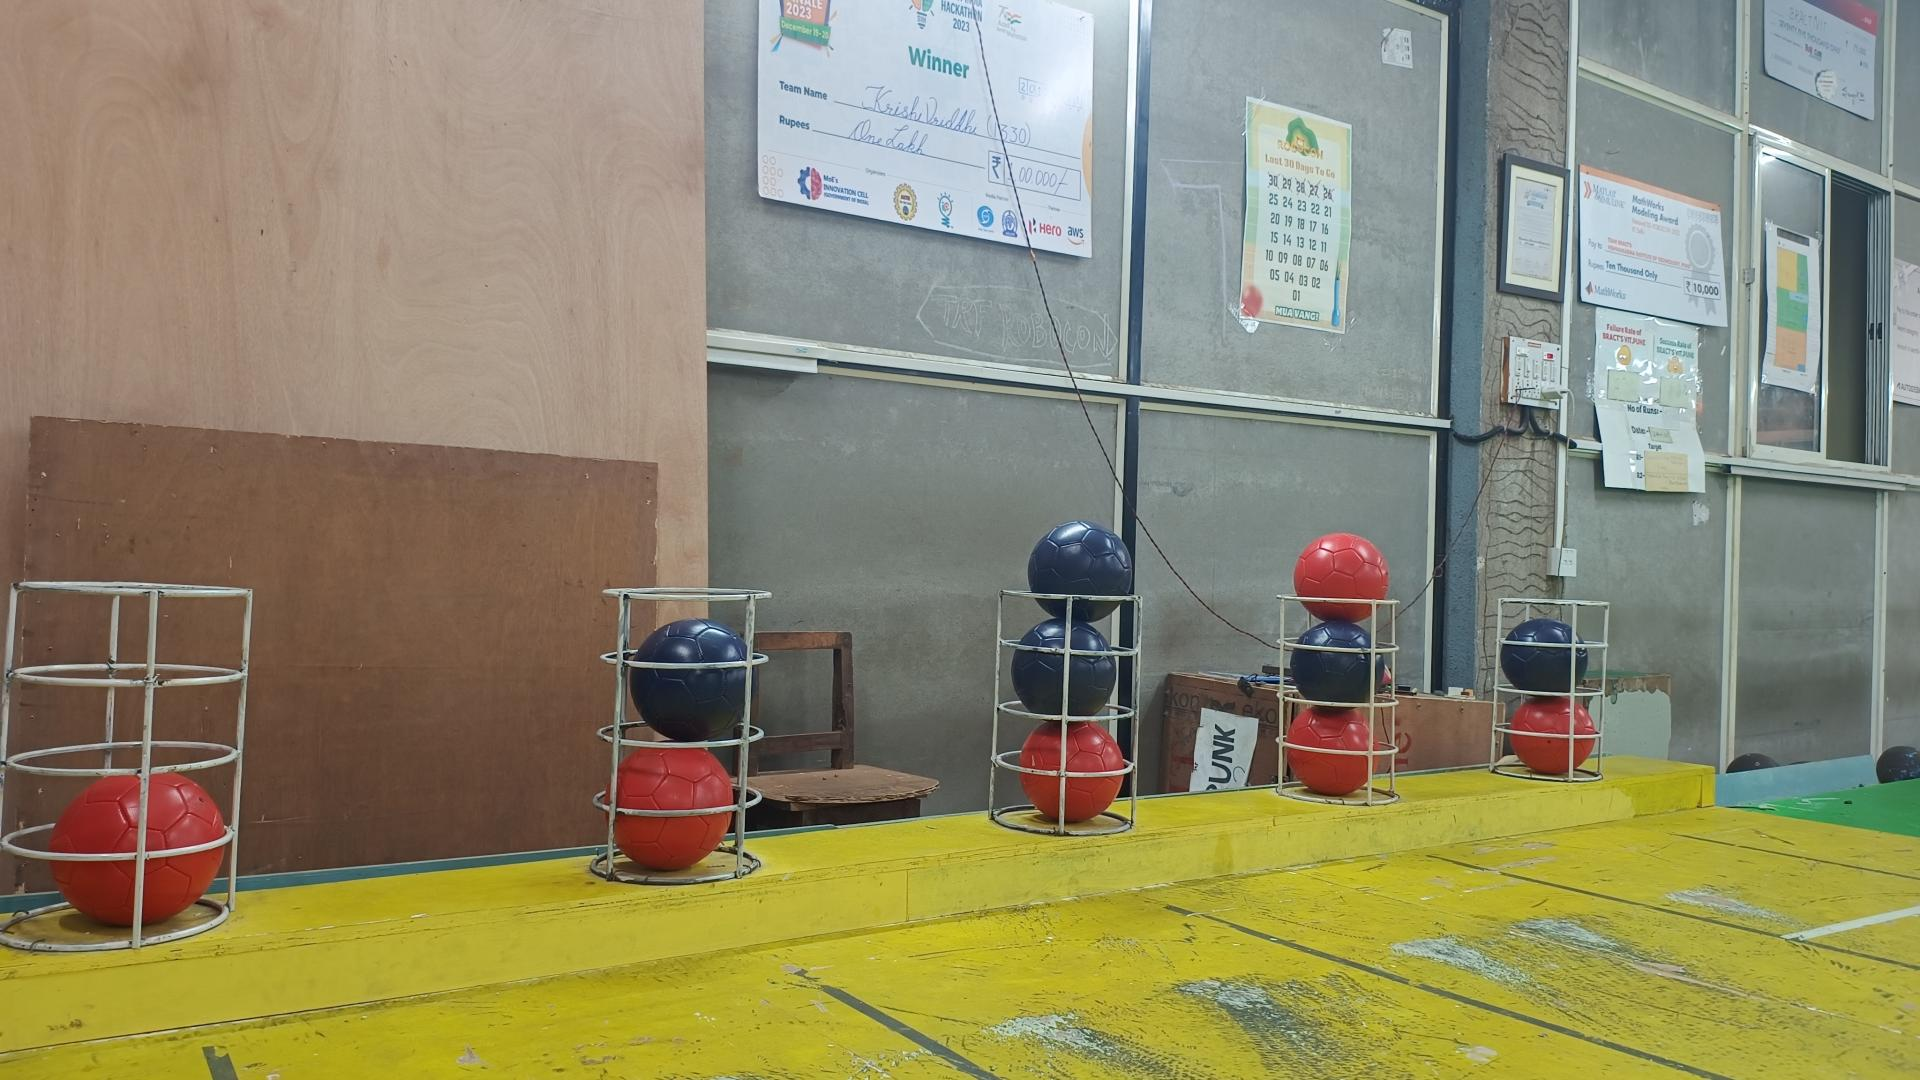dhoka: (630, 618, 757, 742), (1027, 521, 1133, 622), (1013, 618, 1117, 716), (1290, 618, 1387, 705), (1501, 618, 1590, 694)
laale: (49, 773, 228, 926), (604, 746, 735, 870), (1021, 720, 1129, 822), (1294, 533, 1387, 622), (1286, 708, 1379, 795), (1507, 698, 1597, 777)
